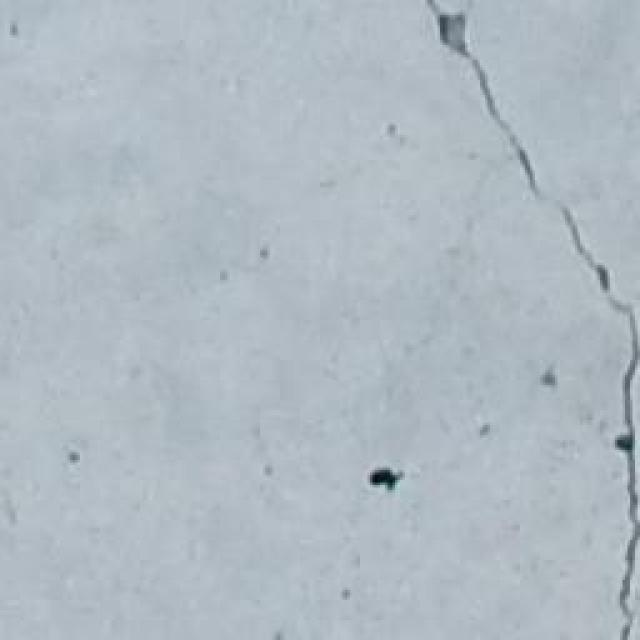concrete-crack: (415, 0, 640, 640), (370, 465, 402, 492)
